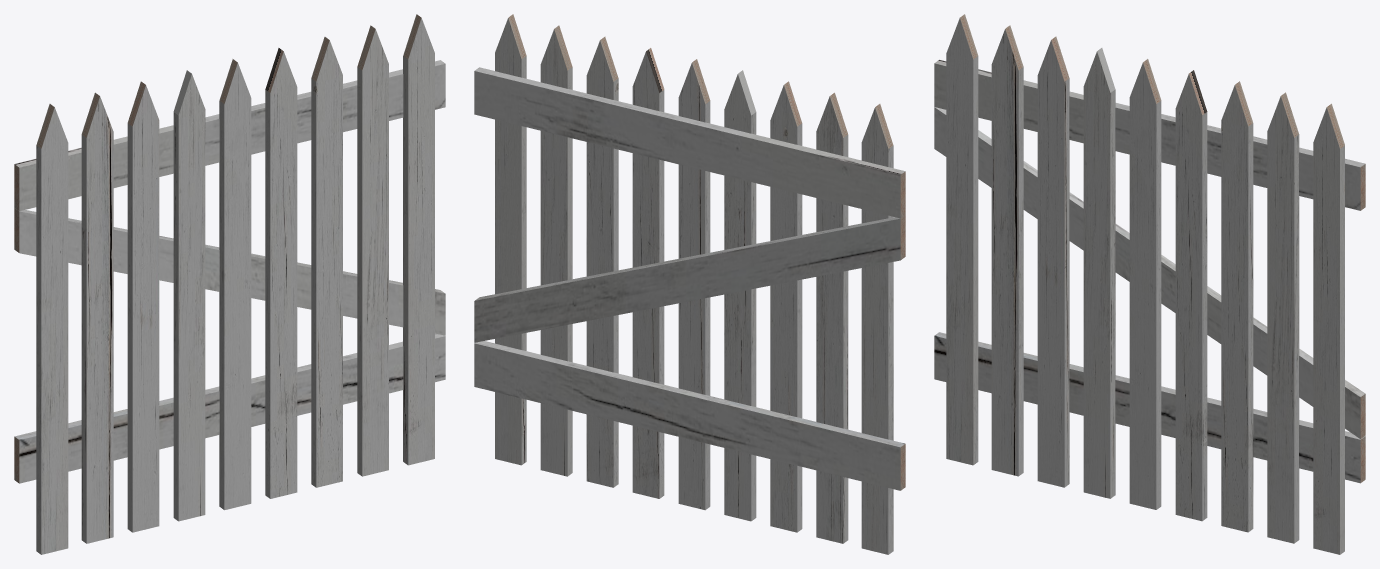
Rendered from picket_panel.glb.
The picture shows the model from 3 angles, left to right: view 1: azimuth 30°, elevation 25°; view 2: azimuth 150°, elevation 25°; view 3: azimuth 330°, elevation 25°; orthographic projection.
Parts seen in each view (by area): view 1: FenceStyle1Long.002; view 2: FenceStyle1Long.002; view 3: FenceStyle1Long.002.
Boxes of the visible parts, x1,y1,x2,y2 form: FenceStyle1Long.002: [14, 14, 445, 554]; FenceStyle1Long.002: [474, 14, 905, 554]; FenceStyle1Long.002: [934, 14, 1365, 554].
Bounding box in the file's own units: 1 × 0.9965 × 0.0405.
1 material, 1 textured.
